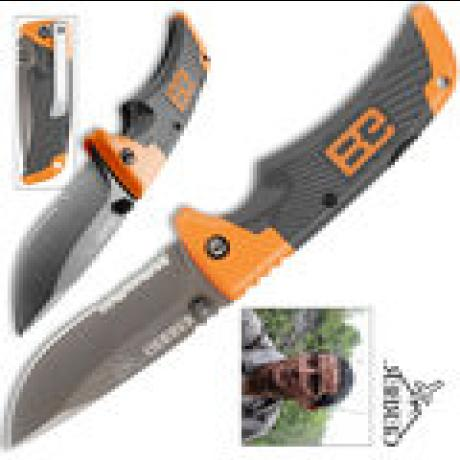1: (244, 310, 374, 446)
weapon: (17, 15, 456, 441), (13, 15, 201, 325), (17, 19, 73, 188)
